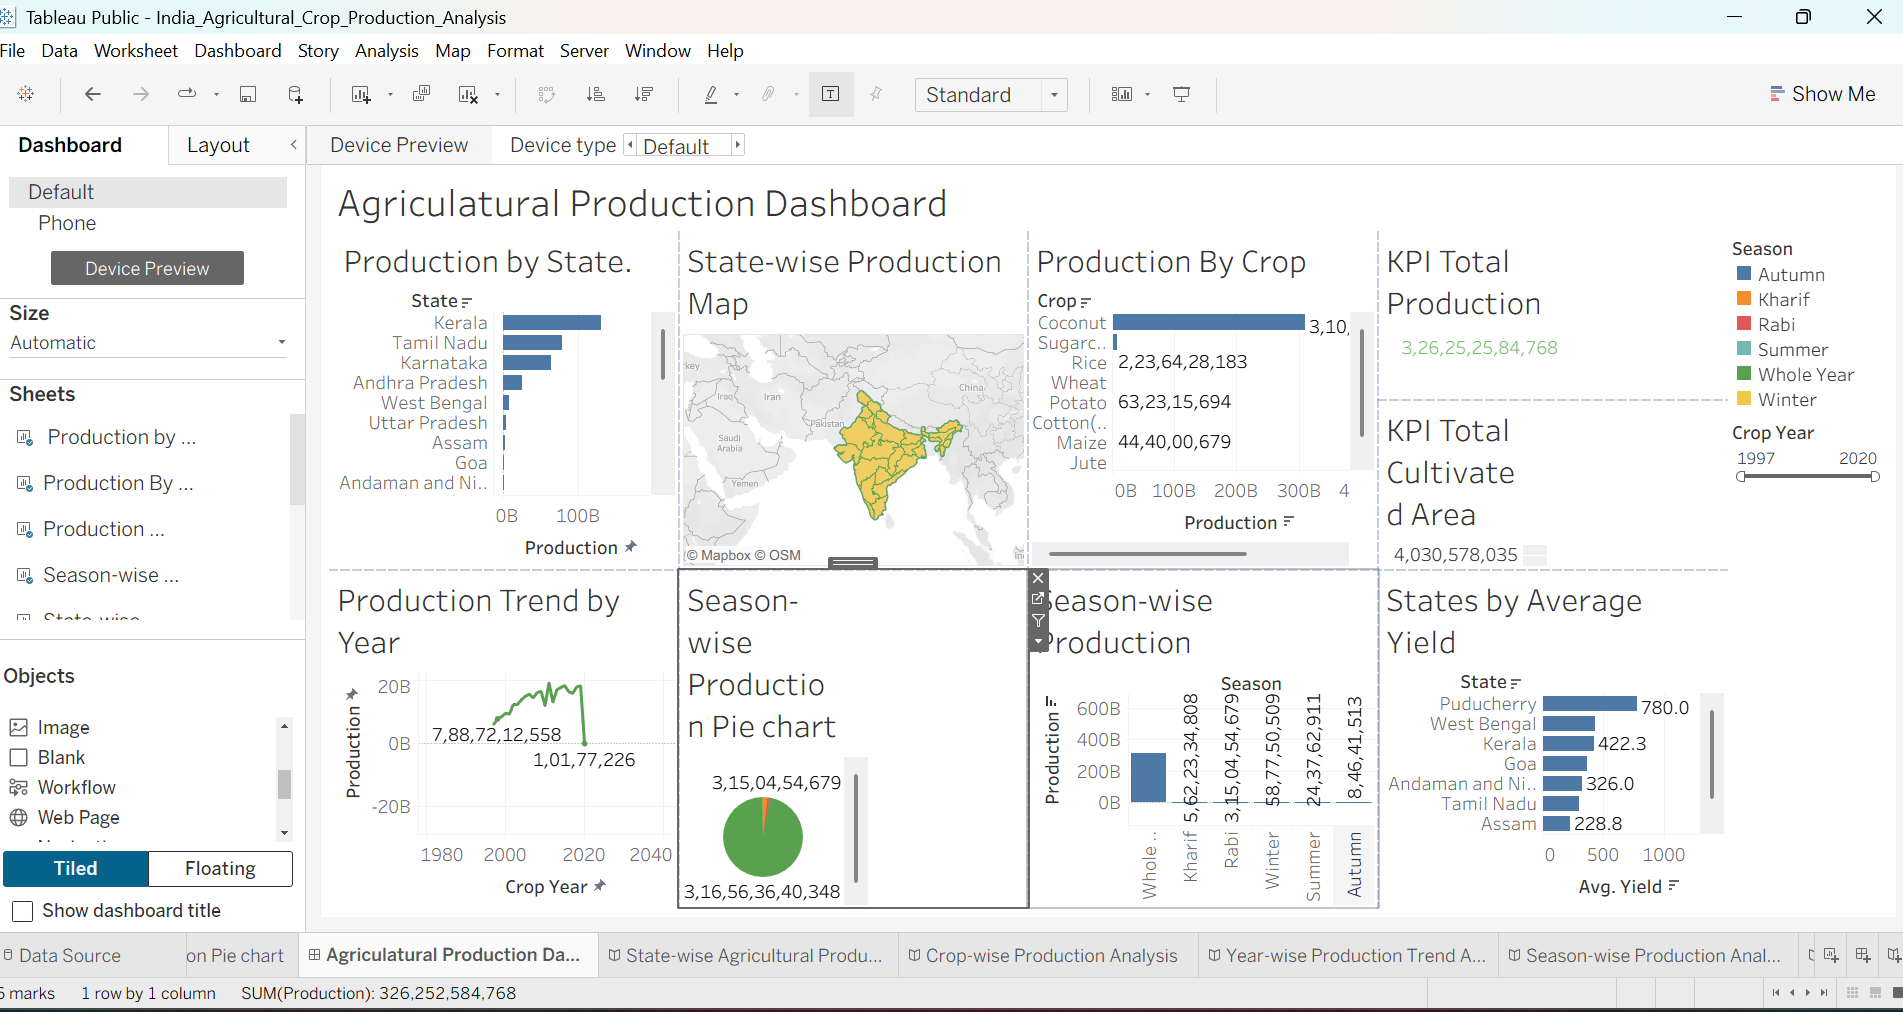

What the dashboard file says about the page in this screenshot:
{"tool":"tableau","page":{"name":"Agriculatural Production Dashboard","canvas":[1000,1000],"units":"permille","ordinal":0},"visuals":[{"type":"title","box":[5.1,10.6,989.8,77.1]},{"type":"worksheet","title":" Production by State.","mark":"Automatic","rows":["State"],"cols":["Production"],"box":[5.1,87.8,222,450.8]},{"type":"worksheet","title":"State-wise Production Map","mark":"Multipolygon","box":[227.1,87.8,222.1,450.8]},{"type":"worksheet","title":"Production By Crop ","mark":"Automatic","rows":["Crop"],"cols":["Production"],"box":[449.2,87.8,222.1,450.8]},{"type":"worksheet","title":"KPI Total Production","mark":"Text","box":[671.2,87.8,222.1,225.3]},{"type":"legend","title":"Season-wise Production Pie chart","param":"[federated.0cbrfkn1bo5pjn138wkd706p33wp].[none:Season:nk]","box":[893.3,87.8,101.6,244.7]},{"type":"worksheet","title":"KPI Total Cultivated Area","mark":"Text","box":[671.2,313.1,222.1,225.4]},{"type":"filter","title":"Production Trend by Year","param":"[federated.0cbrfkn1bo5pjn138wkd706p33wp].[none:Crop_Year:qk]","box":[893.3,332.4,101.6,102.4]},{"type":"worksheet","title":"Production Trend by Year","mark":"Automatic","rows":["Production"],"cols":["Crop_Year"],"box":[5.1,538.5,222,450.8]},{"type":"worksheet","title":"Season-wise Production Pie chart","mark":"Pie","box":[227.1,538.5,222.1,450.8]},{"type":"worksheet","title":"Season-wise Production","mark":"Bar","rows":["Production"],"cols":["Season"],"box":[449.2,538.5,222.1,450.8]},{"type":"worksheet","title":"States by Average Yield","mark":"Automatic","rows":["State"],"cols":["Yield"],"box":[671.2,538.5,222.1,450.8]}]}

Visuals, with their boxes on the dashboard's canvas, which has no fixed pixel size, in thousandths of its width and height (x1, y1, x2, y2). These are canvas units, not pixel positions in the 1903x1012 screenshot, which may show the page scaled, cropped or inside an application window:
title: [5,11,995,88]
" Production by State." worksheet: [5,88,227,539]
"State-wise Production Map" worksheet (Multipolygon marks): [227,88,449,539]
"Production By Crop " worksheet: [449,88,671,539]
"KPI Total Production" worksheet (Text marks): [671,88,893,313]
"Season-wise Production Pie chart" legend: [893,88,995,332]
"KPI Total Cultivated Area" worksheet (Text marks): [671,313,893,538]
"Production Trend by Year" filter: [893,332,995,435]
"Production Trend by Year" worksheet: [5,538,227,989]
"Season-wise Production Pie chart" worksheet (Pie marks): [227,538,449,989]
"Season-wise Production" worksheet (Bar marks): [449,538,671,989]
"States by Average Yield" worksheet: [671,538,893,989]
